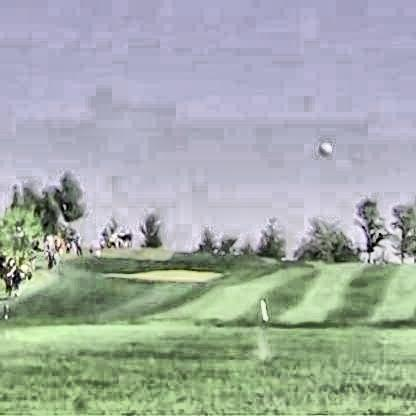golfball: (314, 139, 329, 156)
